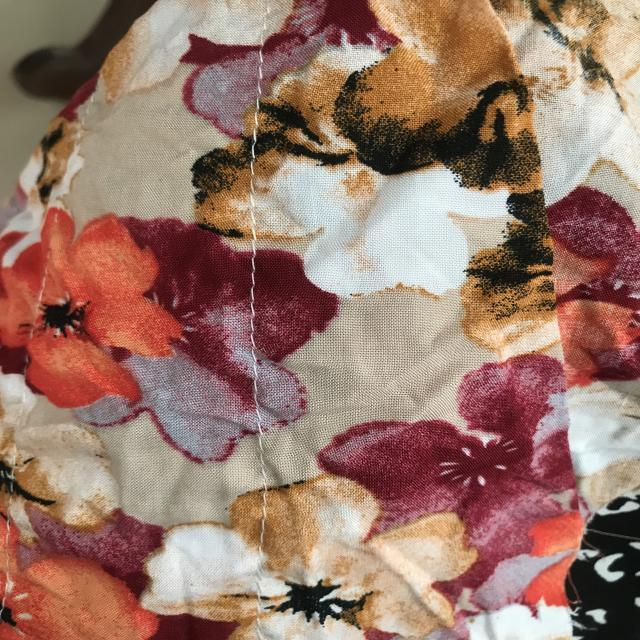good: (238, 53, 272, 221), (244, 252, 268, 440)
